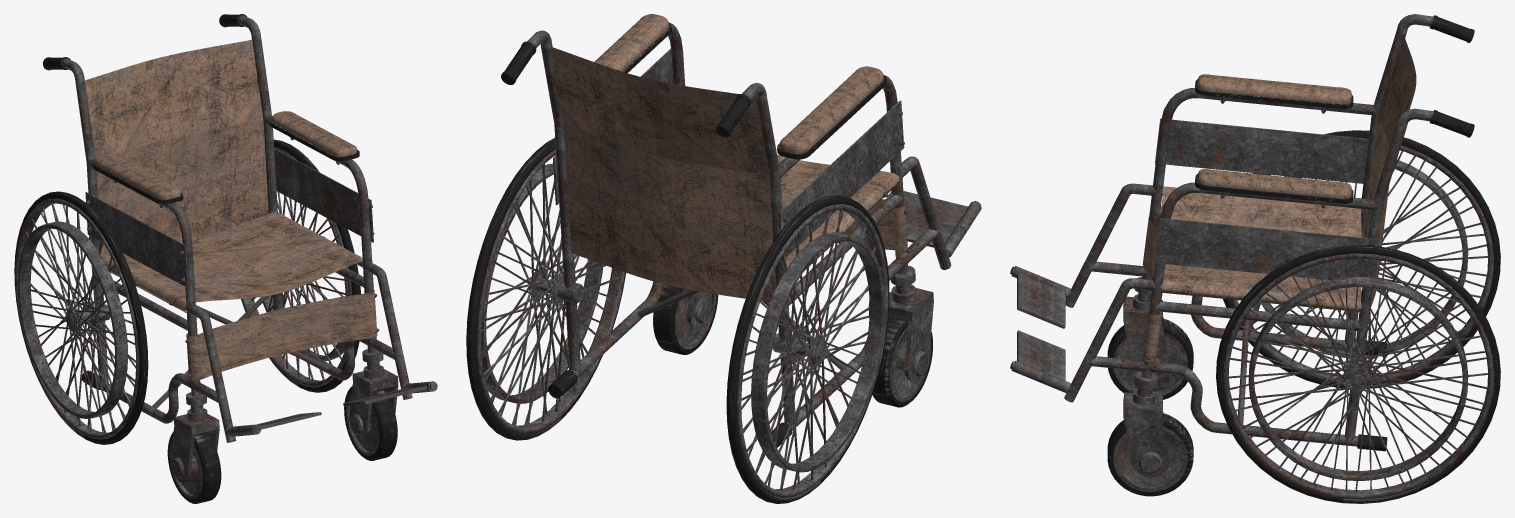
The model's file is tdc-dtr-wheelchair.glb.
3 renders of one model, left to right at view 1: azimuth 30°, elevation 25°; view 2: azimuth 150°, elevation 25°; view 3: azimuth 270°, elevation 25°, orthographic. The views are drawn at different scales.
Visible parts, largest first — view 1: tdc-dtr-wheelchair; view 2: tdc-dtr-wheelchair; view 3: tdc-dtr-wheelchair.
Boxes of the visible parts, left/top/right/bottom form: tdc-dtr-wheelchair: left=14, top=14, right=437, bottom=503; tdc-dtr-wheelchair: left=466, top=14, right=981, bottom=503; tdc-dtr-wheelchair: left=1010, top=14, right=1500, bottom=503.
Bounding box in the file's own units: 0.2941 × 0.4054 × 0.469.
3 materials, 3 textured.
